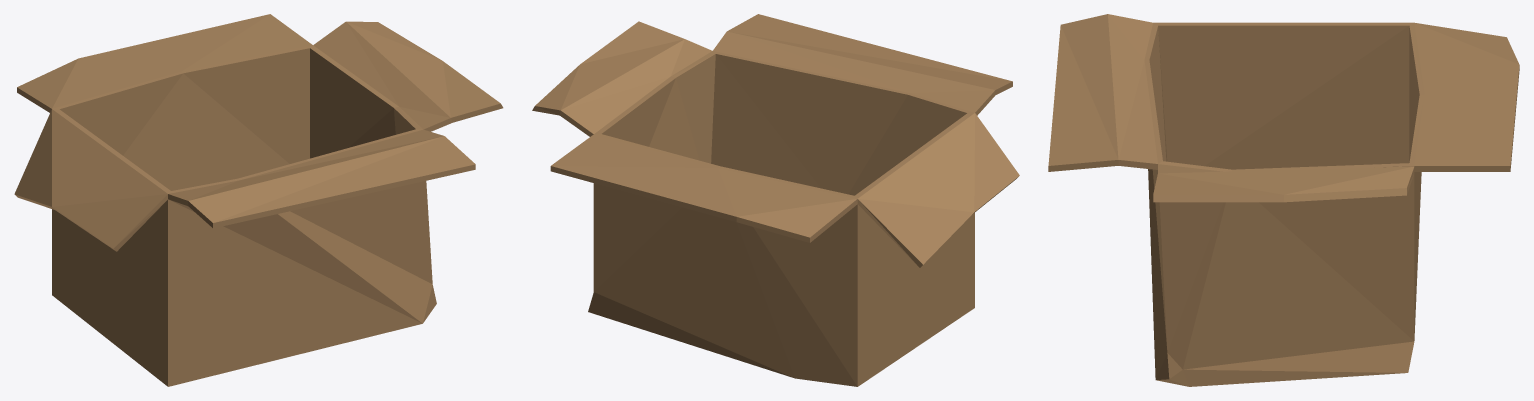
The picture shows the model from 3 angles, left to right: view 1: azimuth 30°, elevation 25°; view 2: azimuth 150°, elevation 25°; view 3: azimuth 270°, elevation 25°; orthographic projection. The views are drawn at different scales.
Parts seen in each view (by area): view 1: pCube2; view 2: pCube2; view 3: pCube2.
Boxes of the visible parts, x1,y1,x2,y2 form: pCube2: [14, 14, 503, 386]; pCube2: [532, 14, 1019, 386]; pCube2: [1048, 14, 1519, 386].
Bounding box in the file's own units: 69.18 × 35.09 × 63.82.
